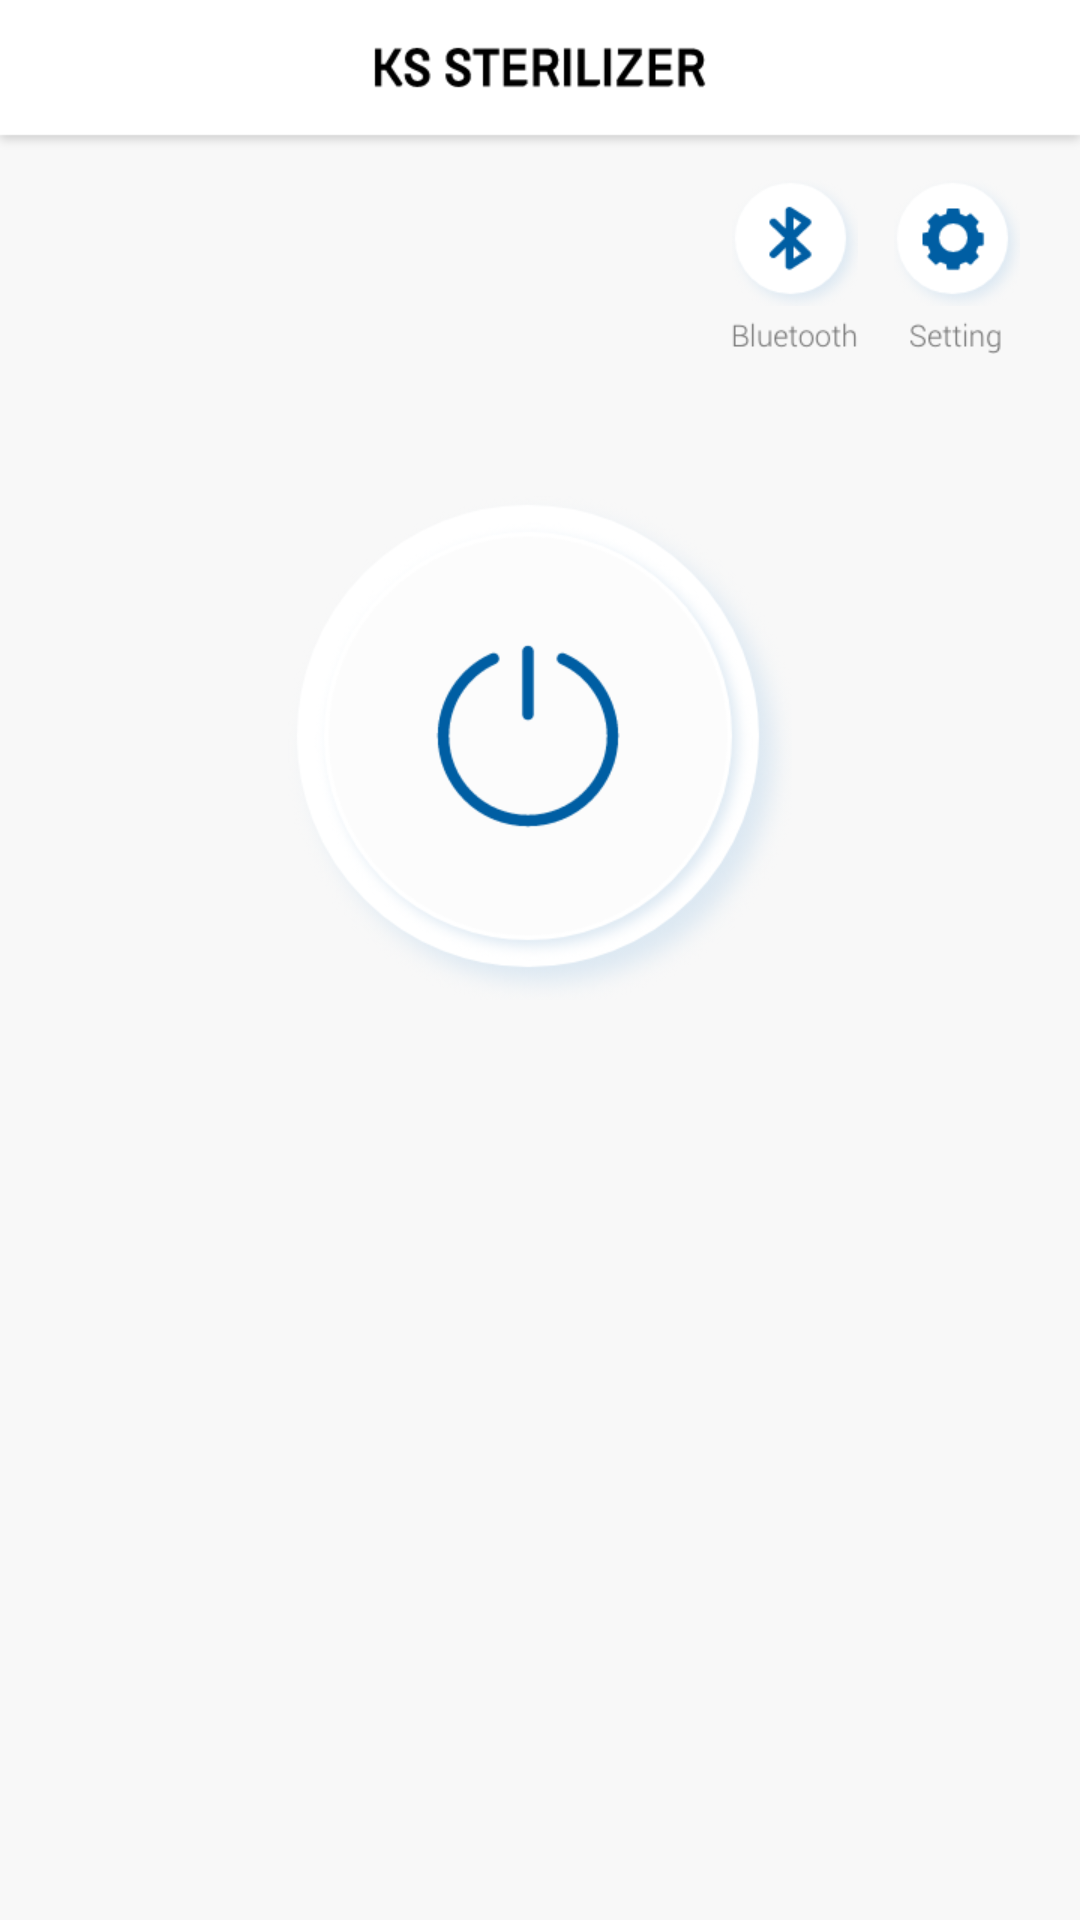

Named icons in this screenshot (1080px x 1920px) and their centers, point (x, y):
power off: point (599, 807)
